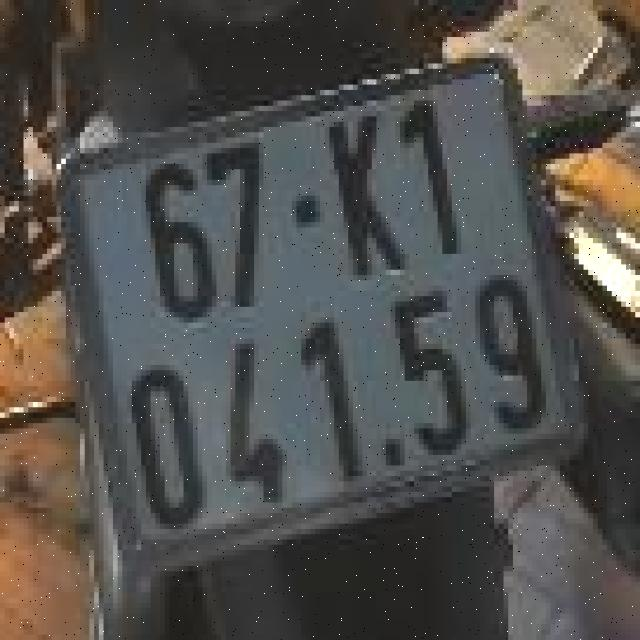0: (125, 362, 209, 532)
1: (296, 320, 372, 489), (398, 90, 468, 264)
4: (221, 336, 297, 510)
5: (388, 286, 473, 460)
6: (137, 158, 221, 322)
7: (214, 140, 275, 315)
9: (470, 270, 546, 439)
K: (322, 98, 417, 278)
